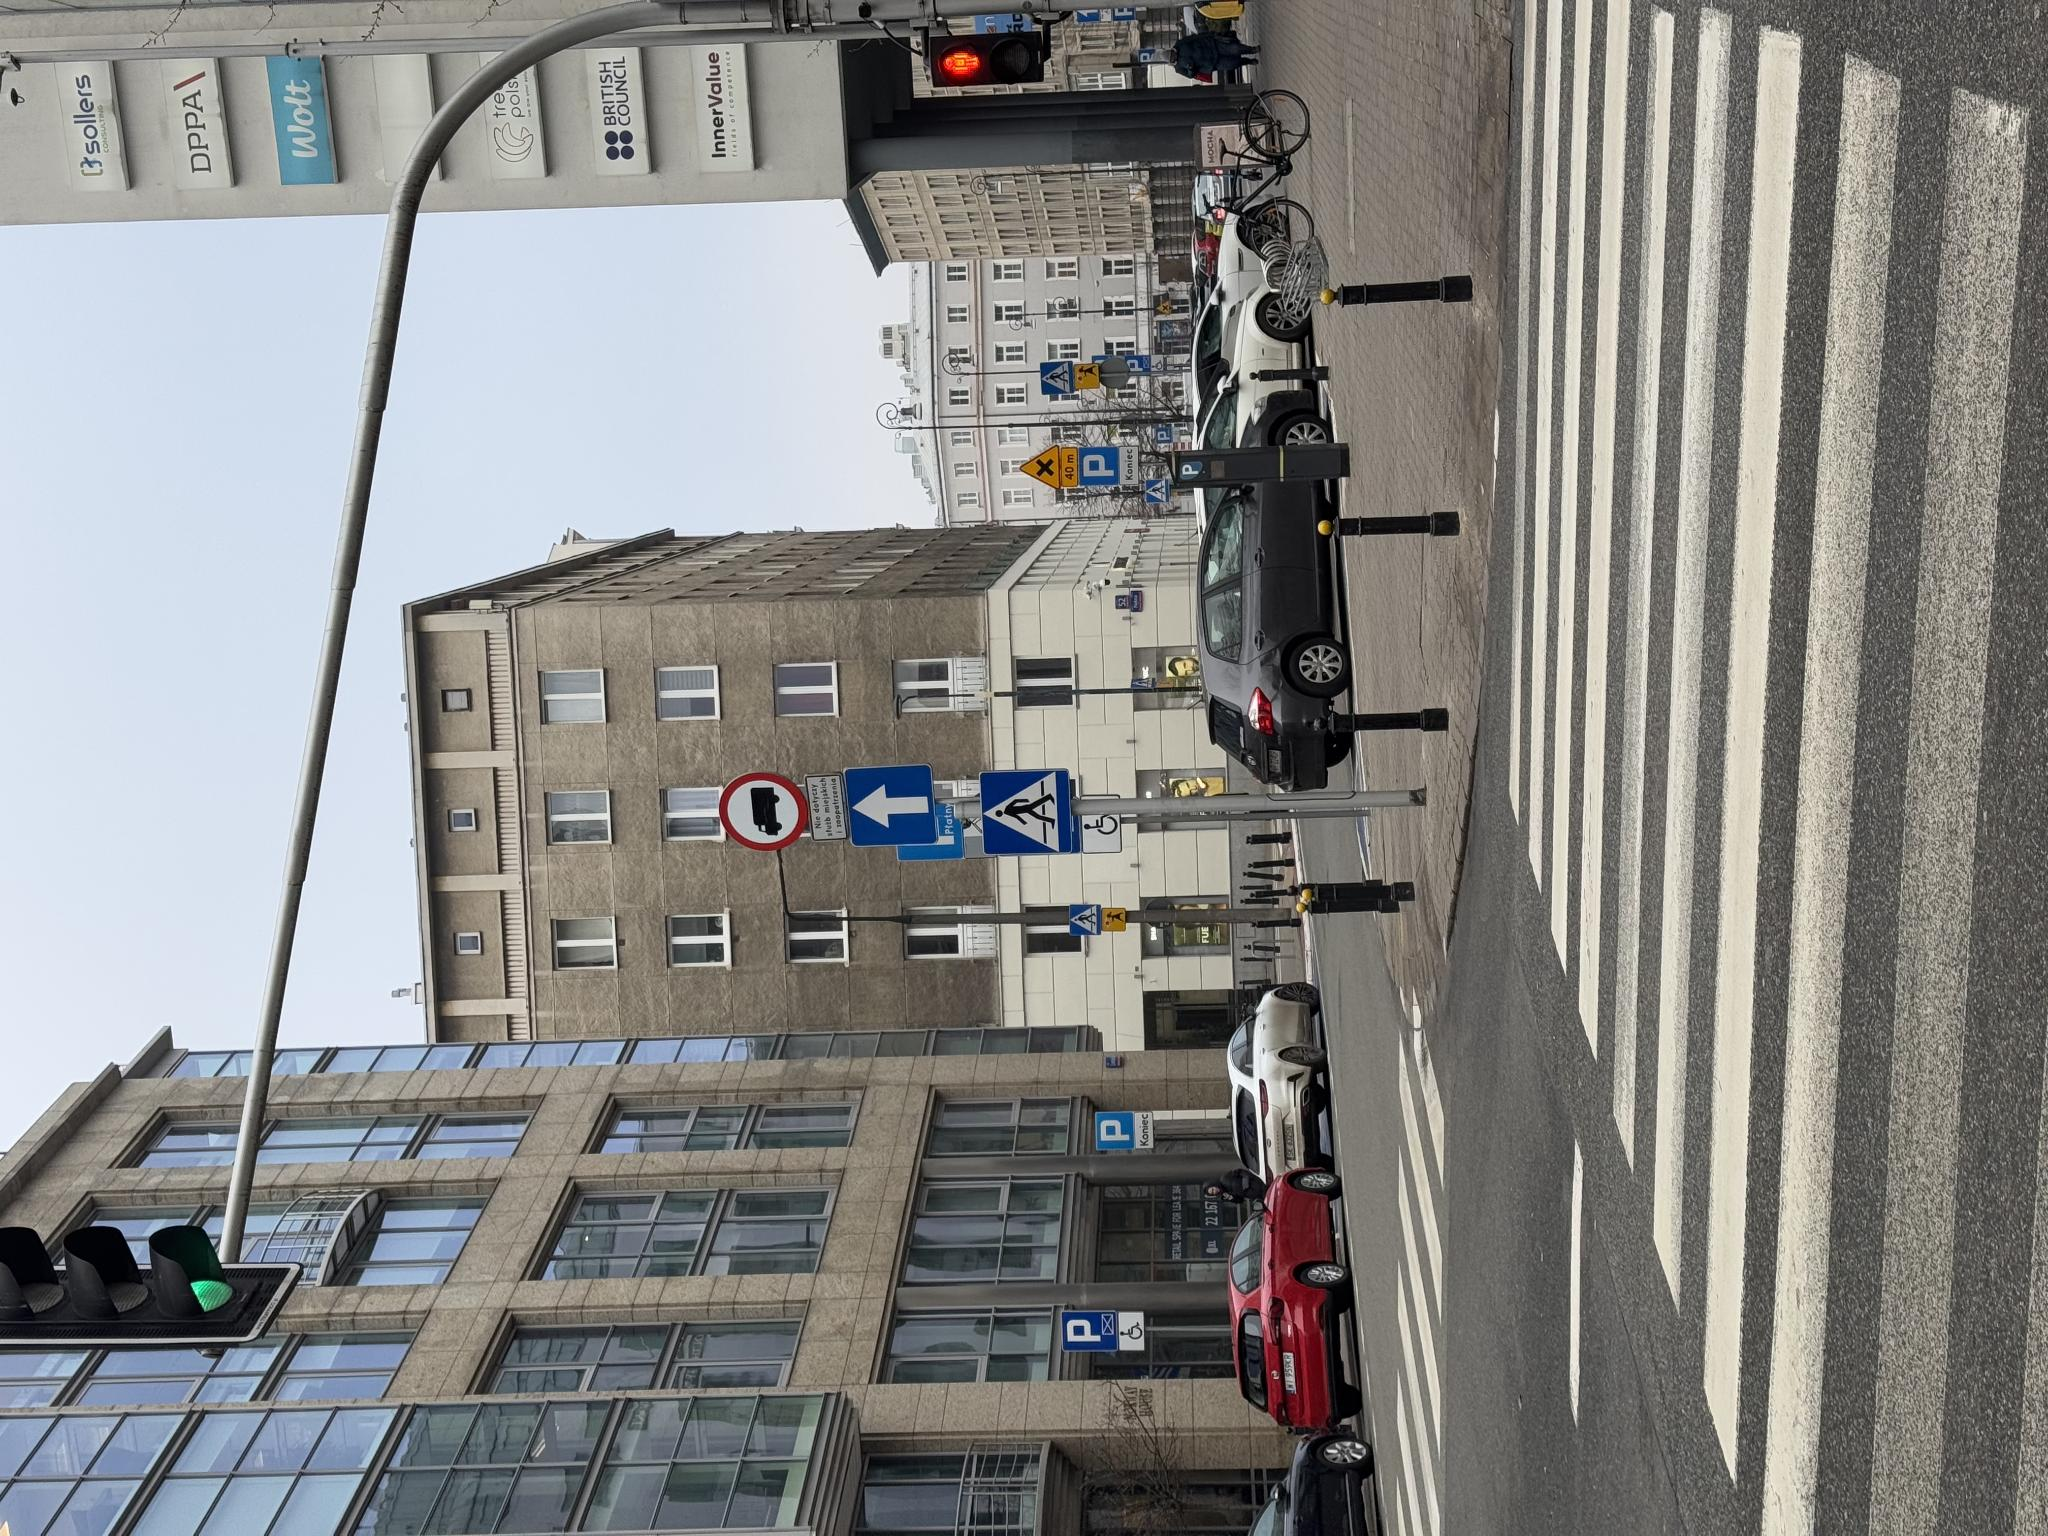information: (689, 842, 772, 937), (682, 979, 768, 1071), (184, 1062, 226, 1118), (1050, 1078, 1090, 1120), (387, 1096, 427, 1136), (1142, 1039, 1176, 1075), (600, 1070, 632, 1100), (1032, 1146, 1056, 1168), (1164, 1126, 1180, 1150), (1513, 1078, 1527, 1100), (1514, 1113, 1529, 1136), (1092, 1155, 1108, 1171), (1472, 1139, 1487, 1155), (1171, 1092, 1182, 1112)
other: (682, 1081, 722, 1120), (184, 1118, 224, 1146), (1051, 1120, 1092, 1139), (385, 1134, 424, 1154), (1050, 1062, 1089, 1078), (605, 1102, 629, 1126), (1150, 1075, 1172, 1099), (1164, 1152, 1180, 1163), (1093, 1173, 1109, 1179)
prohibitory: (684, 718, 766, 810)
warning: (1045, 1018, 1092, 1060), (1221, 1157, 1235, 1171)
